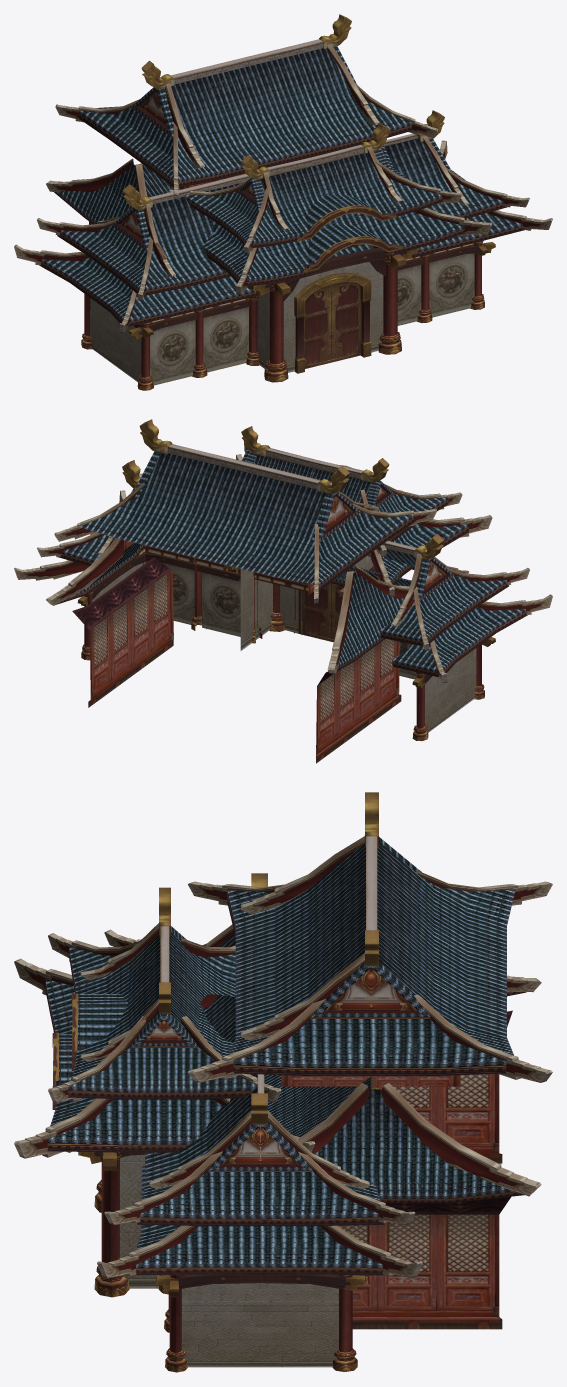
Rendered from cj_luoyang_jianzhua01_53_37_9457out.fbx.
3 renders of one model, top to bottom at view 1: azimuth 30°, elevation 25°; view 2: azimuth 150°, elevation 25°; view 3: azimuth 270°, elevation 25°, orthographic. The views are drawn at different scales.
Visible parts, largest first — view 1: 0001_cj_luoyang_jianzhua01, 0000_cj_luoyang_jianzhua01; view 2: 0001_cj_luoyang_jianzhua01, 0000_cj_luoyang_jianzhua01; view 3: 0001_cj_luoyang_jianzhua01, 0000_cj_luoyang_jianzhua01.
Part boxes in pixels (<box>): 0001_cj_luoyang_jianzhua01: <box>39,39,524,326</box>; 0000_cj_luoyang_jianzhua01: <box>14,14,552,390</box>; 0001_cj_luoyang_jianzhua01: <box>56,444,527,685</box>; 0000_cj_luoyang_jianzhua01: <box>14,419,552,763</box>; 0001_cj_luoyang_jianzhua01: <box>45,836,526,1275</box>; 0000_cj_luoyang_jianzhua01: <box>14,792,552,1372</box>.
Size of the model in its own units: 15.46 by 8.9 by 11.21.
